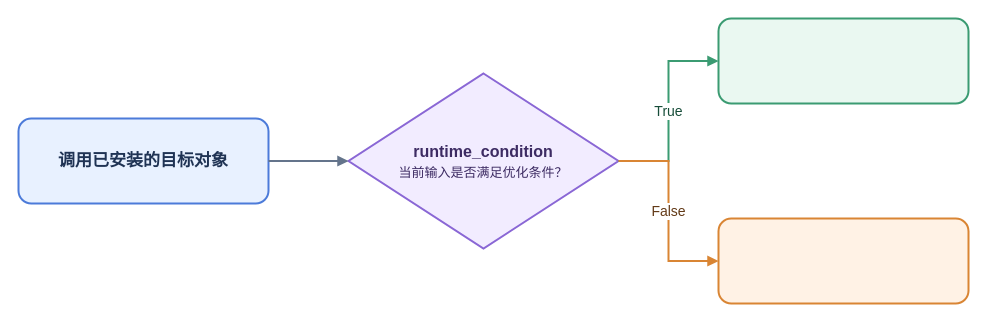
The diagram is 986 pixels wide and 321 high, and some of its shapes have lost their labels. Each missing label, with the centre of its shape:
调用 Replacement: point 843,60
调用保存的原对象: point 843,260
